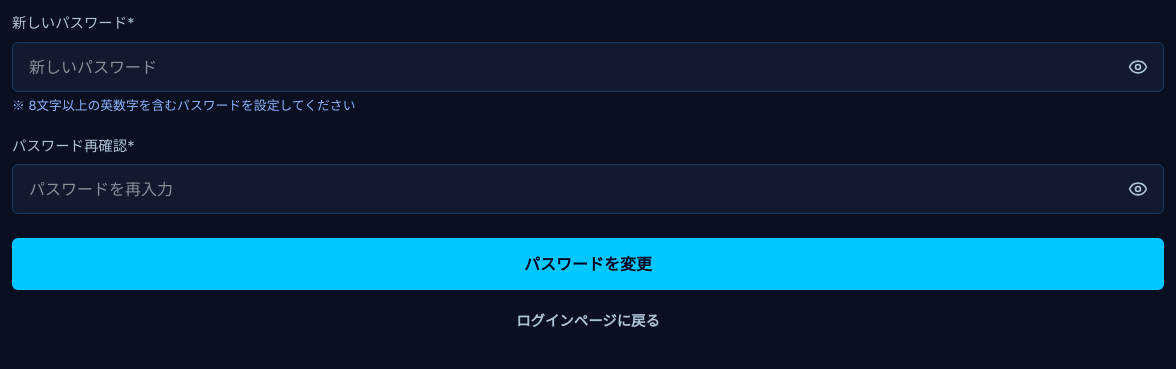
Test case: PasswordResetForm › Form Validation › should show validation error for password mismatch
The image size is (1176, 369).
Type "password123" into the password field labelled "新しいパスワード*".
click(588, 67); type("password123")  # box [12, 42, 1164, 92]
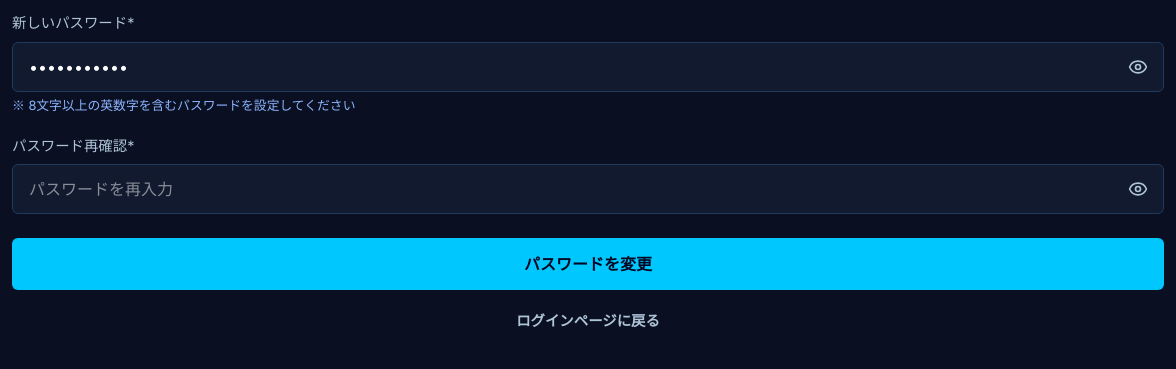
Type "different123" into the password field labelled "パスワード再確認*".
click(588, 189); type("different123")  # box [12, 164, 1164, 214]
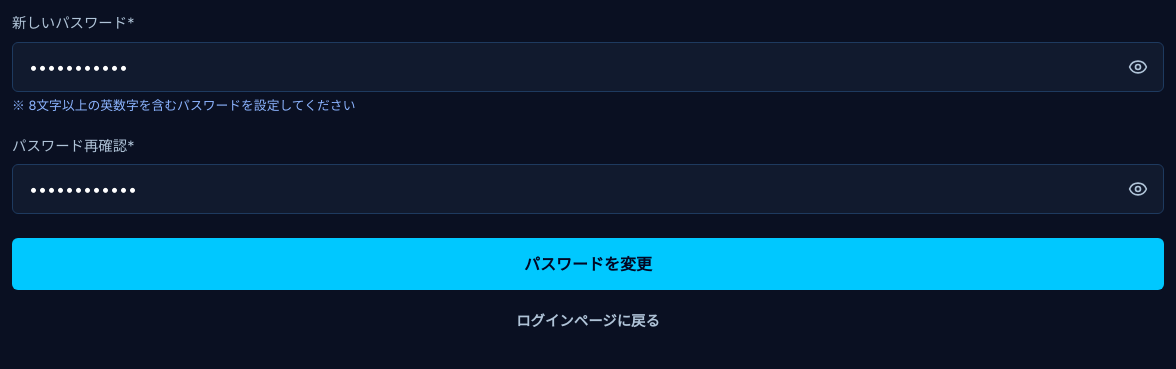
Click the button "パスワードを変更".
click(588, 264)  # box [12, 238, 1164, 290]
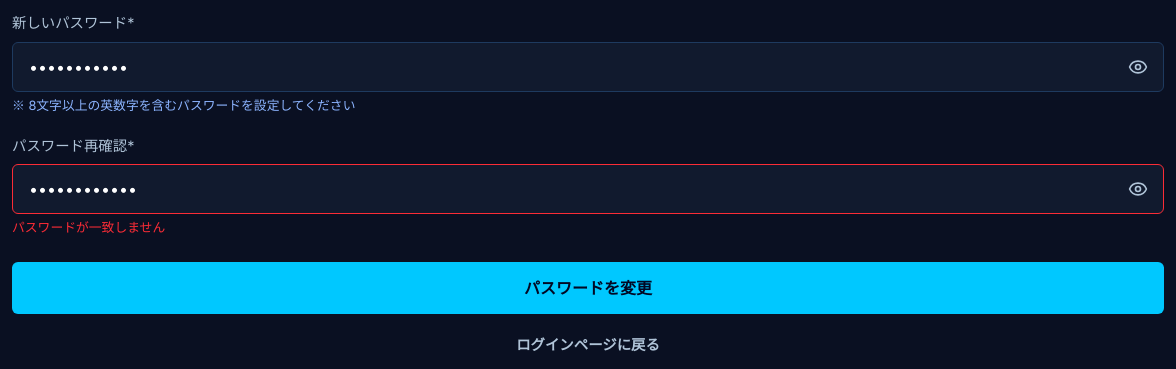
Expected: the text "パスワードが一致しません" is shown, [12, 220, 165, 235]
